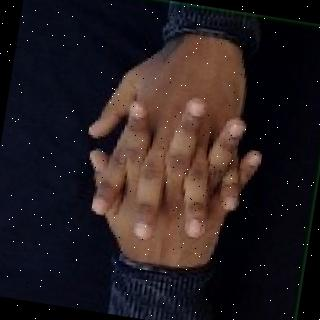W: (65, 36, 288, 281)
